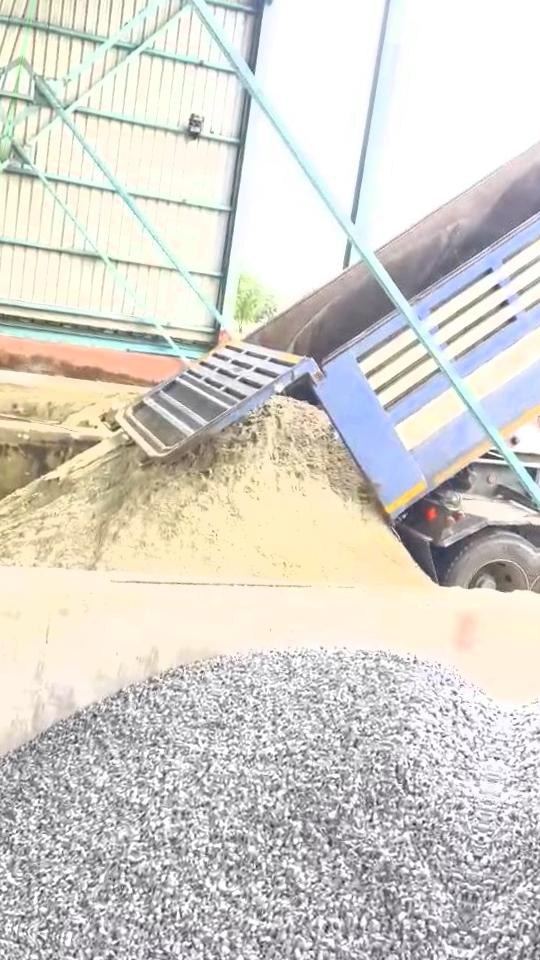gravel: (0, 648, 504, 960)
sand: (0, 398, 428, 584), (63, 392, 140, 429)
